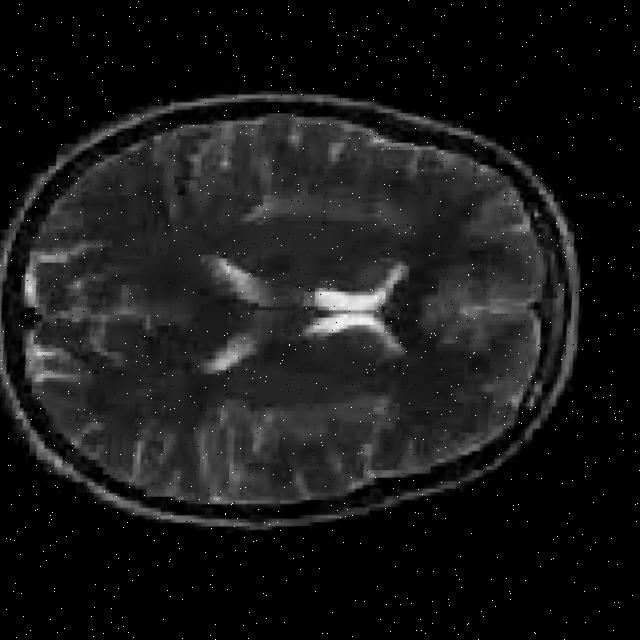NoTumor: (0, 78, 595, 546)
